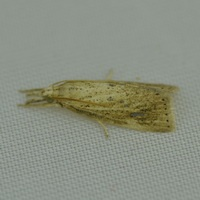insect: (18, 80, 177, 137)
